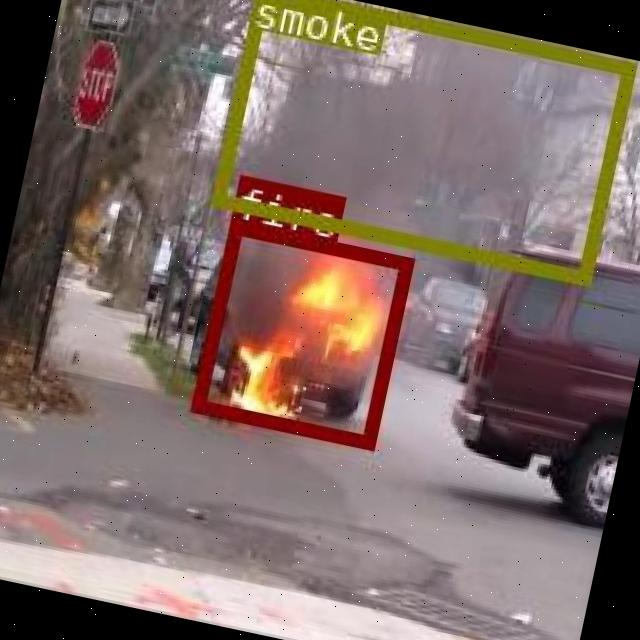fire: (190, 217, 410, 446)
smoke: (210, 0, 632, 280)
